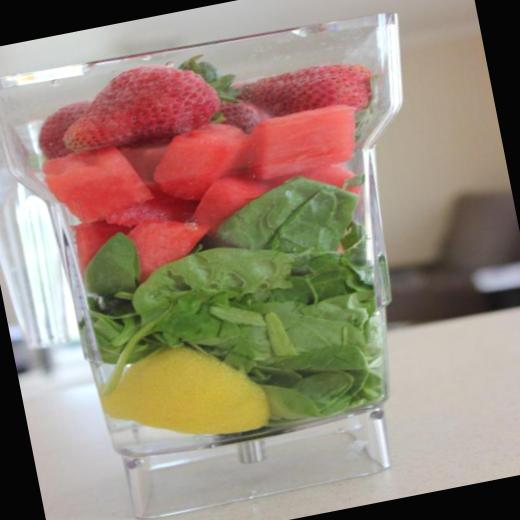Cherry: (38, 91, 374, 295)
